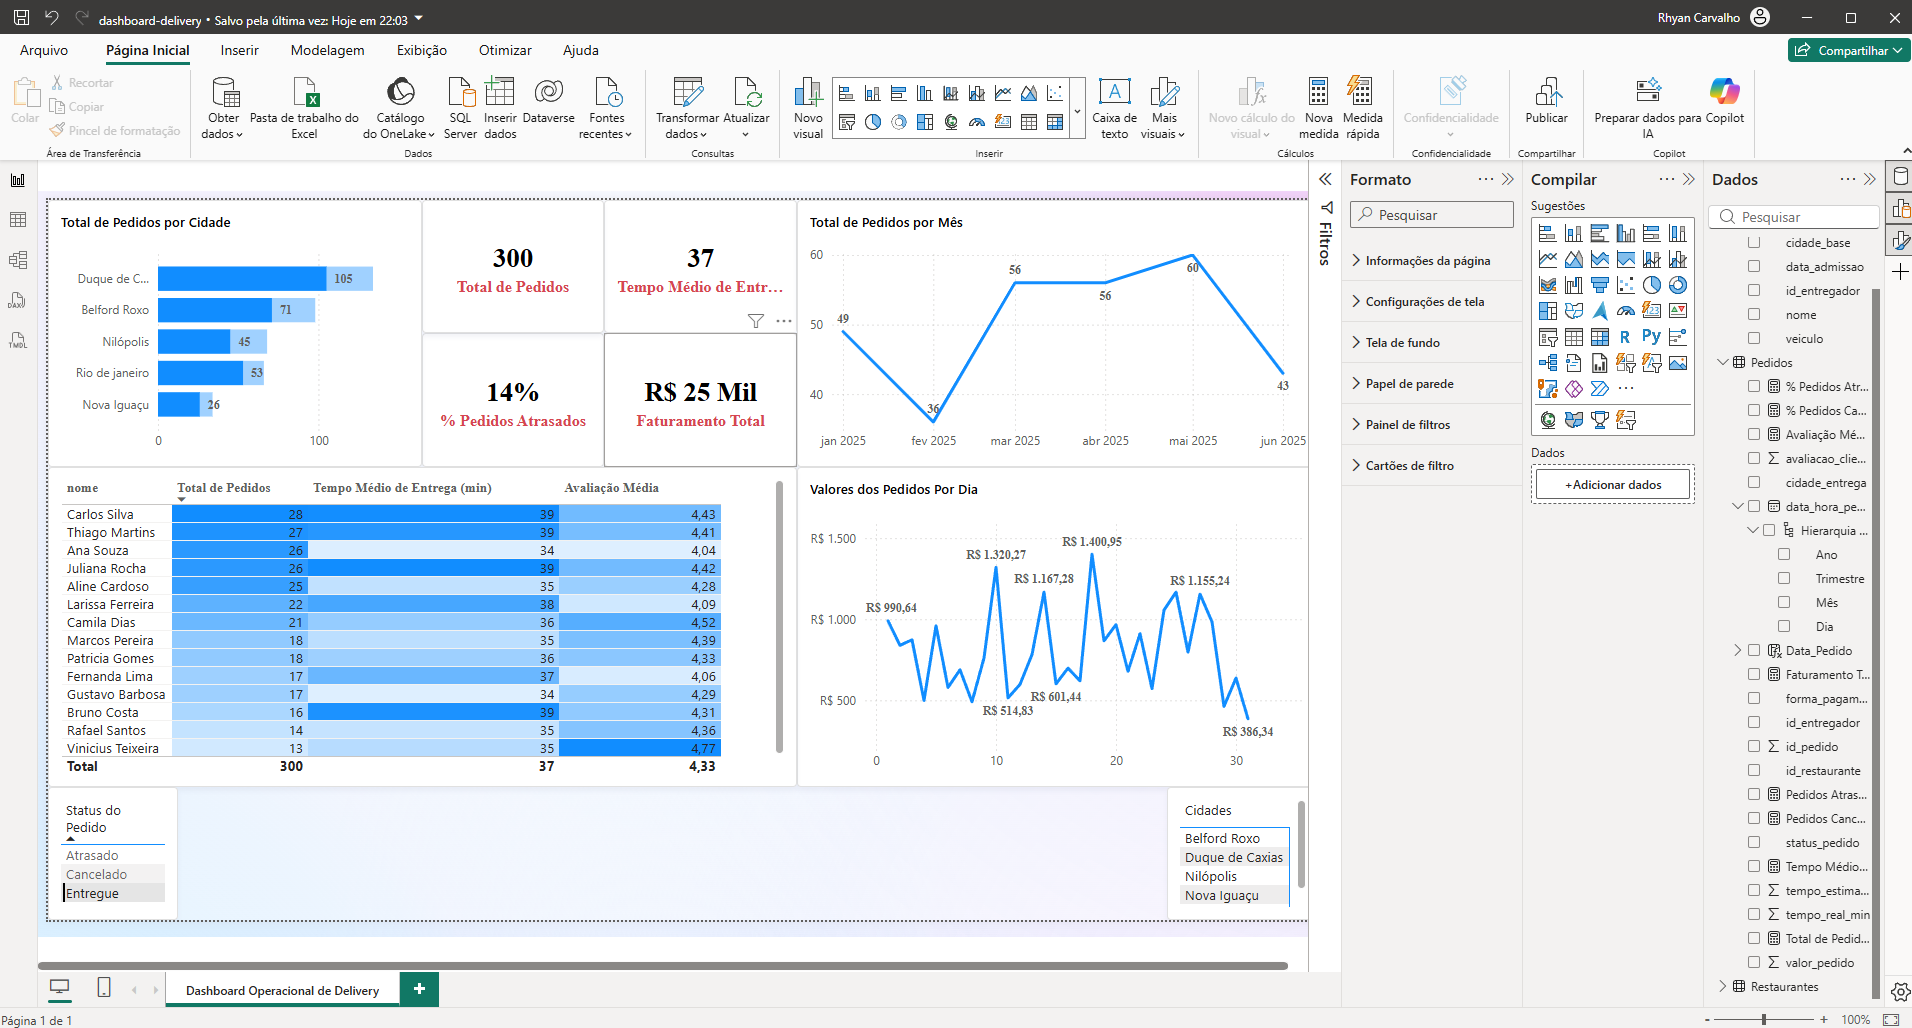

The dashboard page shown, as its layout file describes it:
{"tool":"powerbi","page":{"name":"Dashboard Operacional de Delivery","canvas":[1280,720],"ordinal":0},"visuals":[{"type":"card","fields":{"Values":["Pedidos.Tempo Médio de Entrega (min)"]},"box":[555.6,0,193.3,133.3],"z":0},{"type":"card","fields":{"Values":["Pedidos.% Pedidos Atrasados"]},"box":[374.4,133.3,181.1,133.3],"z":1000},{"type":"card","fields":{"Values":["Pedidos.Total de Pedidos"]},"box":[374.4,0,181.1,133.3],"z":2000},{"type":"card","fields":{"Values":["Pedidos.Faturamento Total"]},"box":[555.6,133.3,193.3,133.3],"z":3000},{"type":"clusteredBarChart","title":"Total de Pedidos por Cidade","fields":{"Category":["Pedidos.cidade_entrega"],"Y":["Pedidos.Total de Pedidos"]},"box":[0,0,374.4,266.7],"z":4000},{"type":"lineChart","title":"Total de Pedidos por Mês","fields":{"Category":["Pedidos.Data_Pedido.Variation.Hierarquia de datas.Ano","Pedidos.Data_Pedido.Variation.Hierarquia de datas.Mês"],"Y":["Pedidos.Total de Pedidos"]},"box":[748.9,0,522.2,266.7],"z":5000},{"type":"lineChart","title":"Valores dos Pedidos Por Dia","fields":{"Category":["Pedidos.data_hora_pedido.Variation.Hierarquia de datas.Dia","Pedidos.data_hora_pedido.Variation.Hierarquia de datas.Mês"],"Y":["Sum(Pedidos.valor_pedido)"]},"box":[748.9,266.7,522.2,320],"z":6000},{"type":"tableEx","fields":{"Values":["Entregadores.nome","Pedidos.Total de Pedidos","Pedidos.Tempo Médio de Entrega (min)","Pedidos.Avaliação Média"]},"box":[0,266.7,748.9,320],"z":6001},{"type":"pivotTable","fields":{"Rows":["Pedidos.status_pedido"]},"box":[0,586.7,130,133.3],"z":6002},{"type":"pivotTable","fields":{"Rows":["Pedidos.cidade_entrega"]},"box":[1118.9,586.7,152.2,133.3],"z":6003}]}

Visuals, with their boxes on the page's 1280x720 design canvas (x1, y1, x2, y2). These are canvas units, not pixel positions in the 1912x1028 screenshot, which may show the page scaled, cropped or inside an application window:
card - Pedidos.Tempo Médio de Entrega (min): 556 0 749 133
card - Pedidos.% Pedidos Atrasados: 374 133 556 267
card - Pedidos.Total de Pedidos: 374 0 556 133
card - Pedidos.Faturamento Total: 556 133 749 267
"Total de Pedidos por Cidade" clusteredBarChart: 0 0 374 267
"Total de Pedidos por Mês" lineChart: 749 0 1271 267
"Valores dos Pedidos Por Dia" lineChart: 749 267 1271 587
tableEx - Entregadores.nome x Pedidos.Total de Pedidos: 0 267 749 587
pivotTable - Pedidos.status_pedido: 0 587 130 720
pivotTable - Pedidos.cidade_entrega: 1119 587 1271 720
